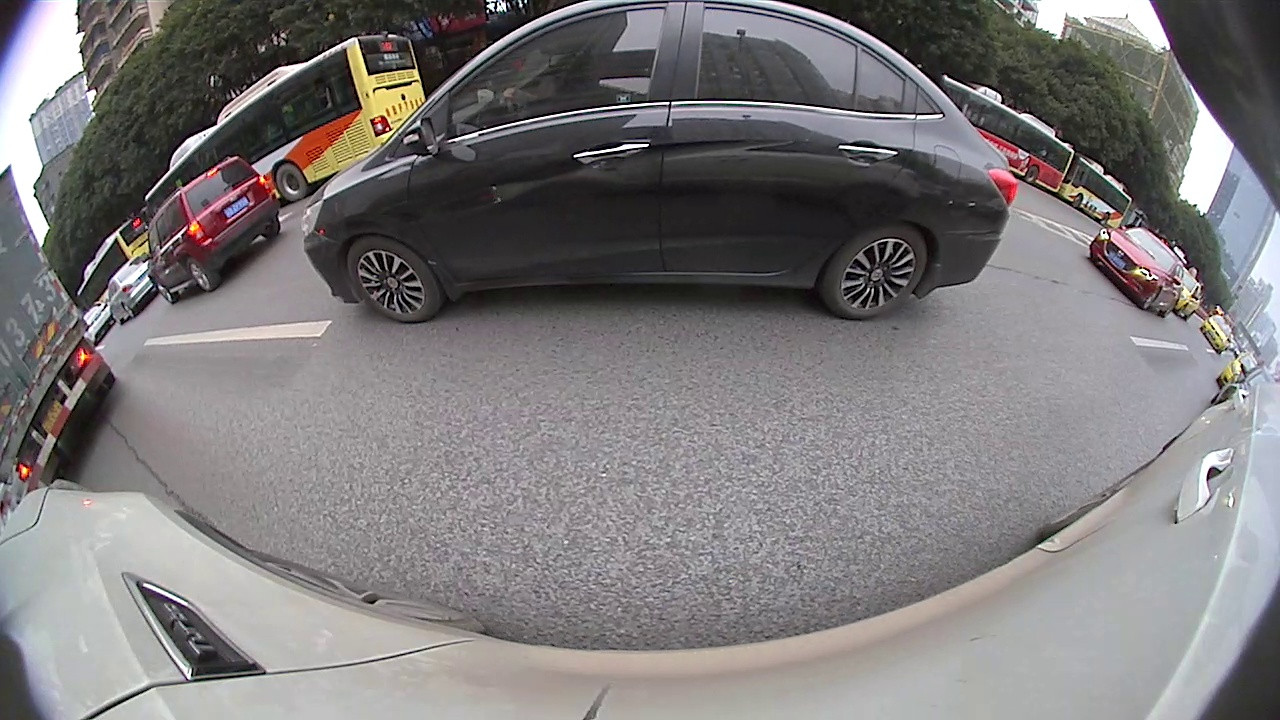bus: (137, 36, 426, 204), (940, 73, 1078, 194), (72, 214, 156, 310), (1061, 154, 1129, 231)
car: (301, 1, 1019, 324), (146, 156, 282, 307), (1092, 223, 1186, 316), (106, 252, 157, 324), (1217, 348, 1263, 387), (1176, 264, 1204, 319), (1199, 314, 1237, 351)
front: (824, 213, 924, 318), (351, 229, 434, 322), (1142, 285, 1163, 310), (157, 274, 172, 305), (1071, 193, 1085, 206)
rear: (274, 161, 313, 198), (183, 257, 214, 292), (1024, 163, 1042, 183), (1101, 211, 1113, 225)
truck: (2, 167, 118, 502)
